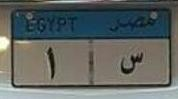1: (45, 46, 59, 81)
seen: (117, 50, 145, 77)
